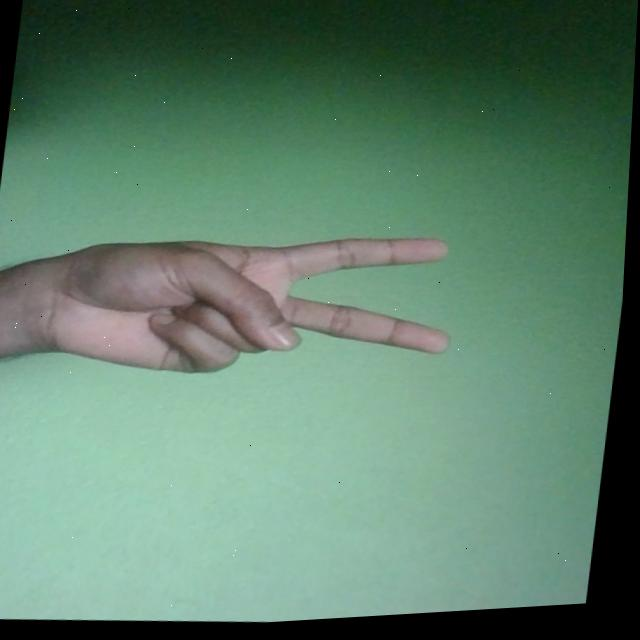Peace: (33, 215, 467, 402)
